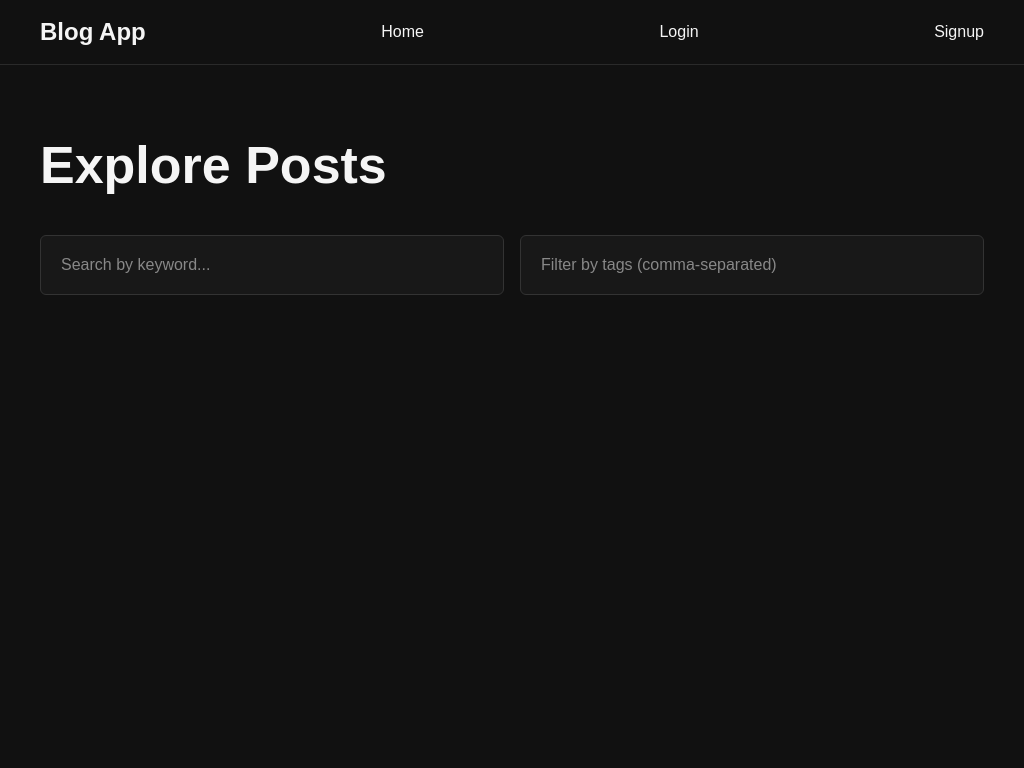
it: Blog App Frontend Tests › Should have an option to signup with google
Click the link "Signup" at x=959, y=32, box [934,23,984,41]
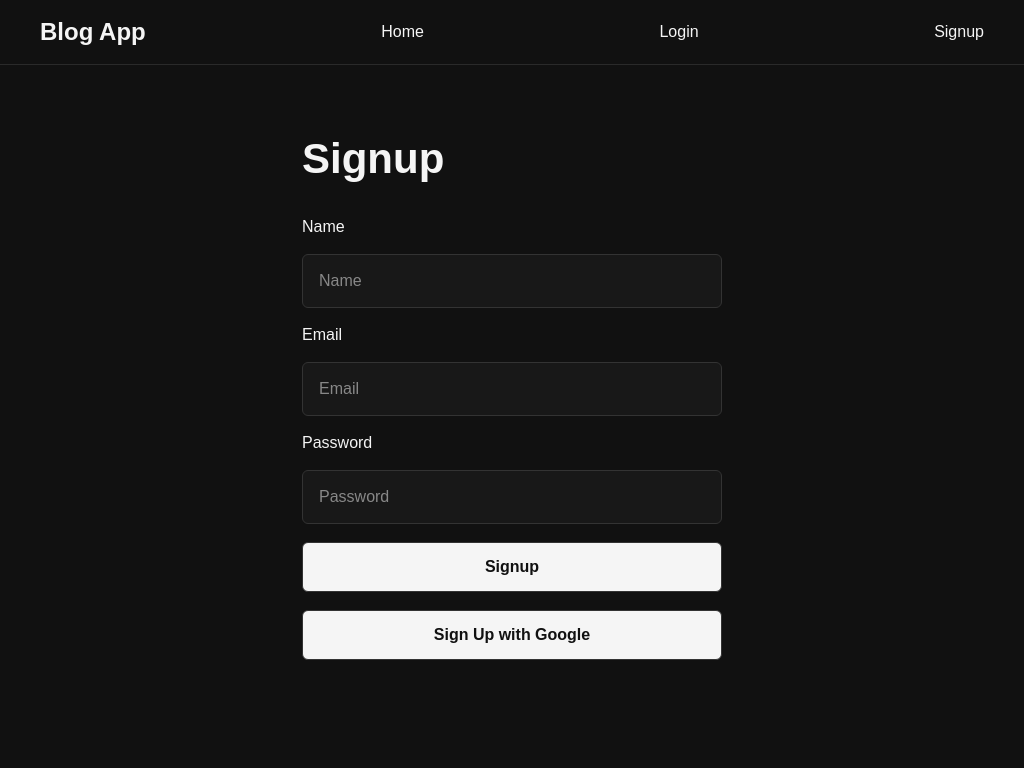
Check: the button "Sign Up with Google" is shown, box [302,610,722,660]
